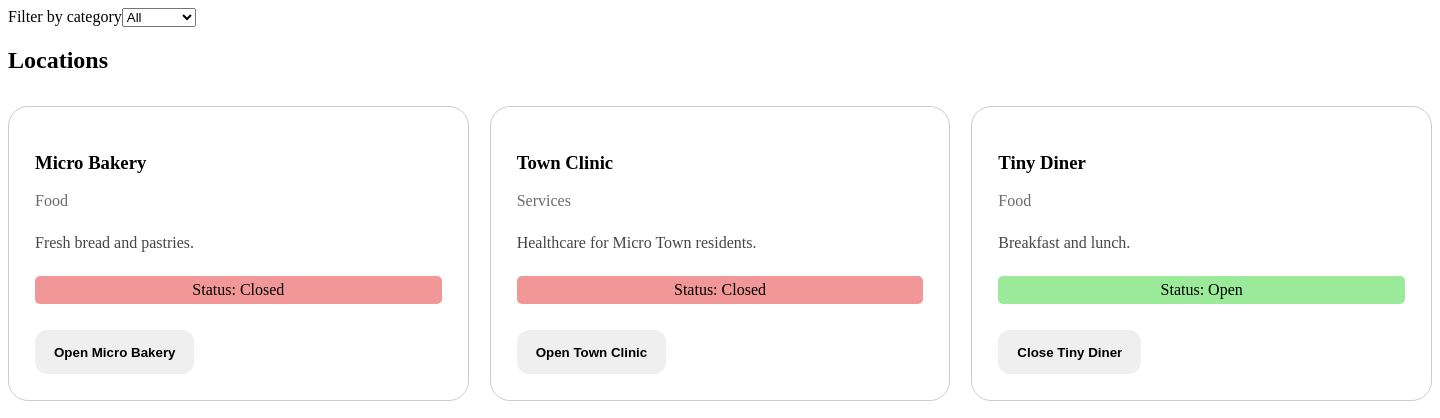
Test: LocationList › displays a message when a category has no locations
The width and height of the screenshot is (1440, 418).
Select "Parks" in the dropdown labelled "Filter by category" at (159, 18), box [122,8,196,27]
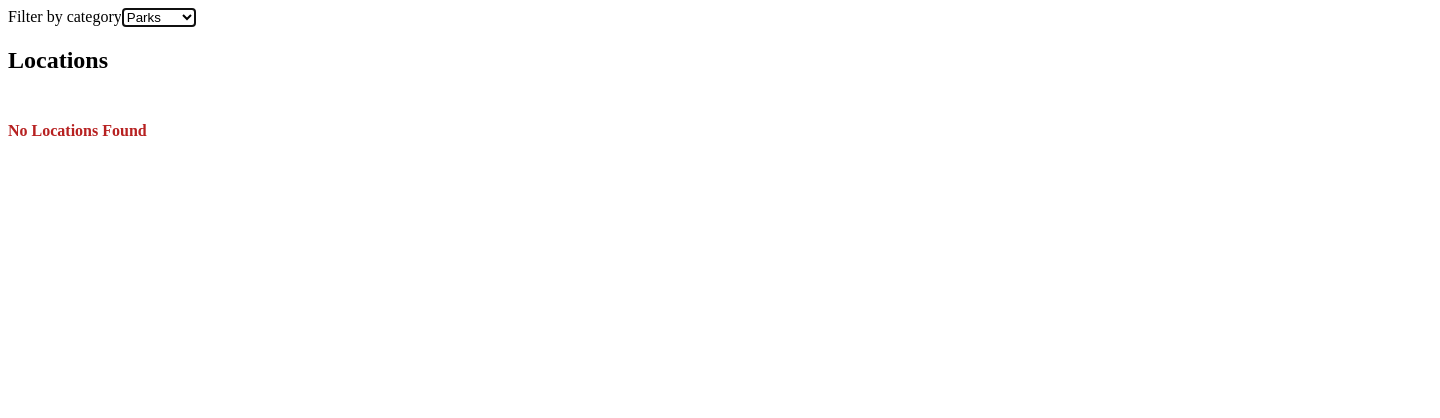
Now the text "No Locations Found" is shown, box [8,122,147,139]
Now the list is gone
